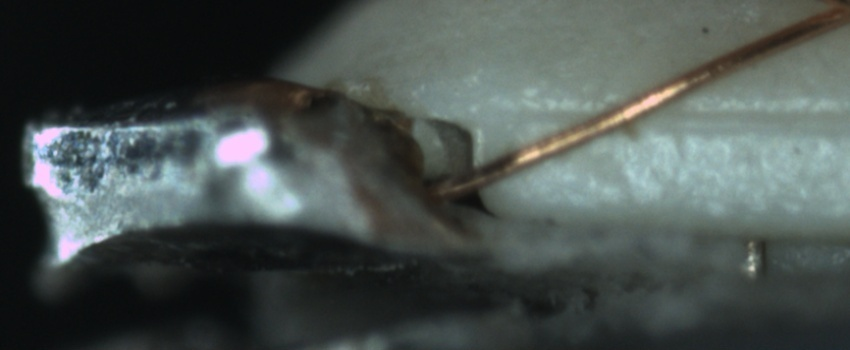CL: (803, 0, 849, 31)
DL: (527, 81, 846, 150)
